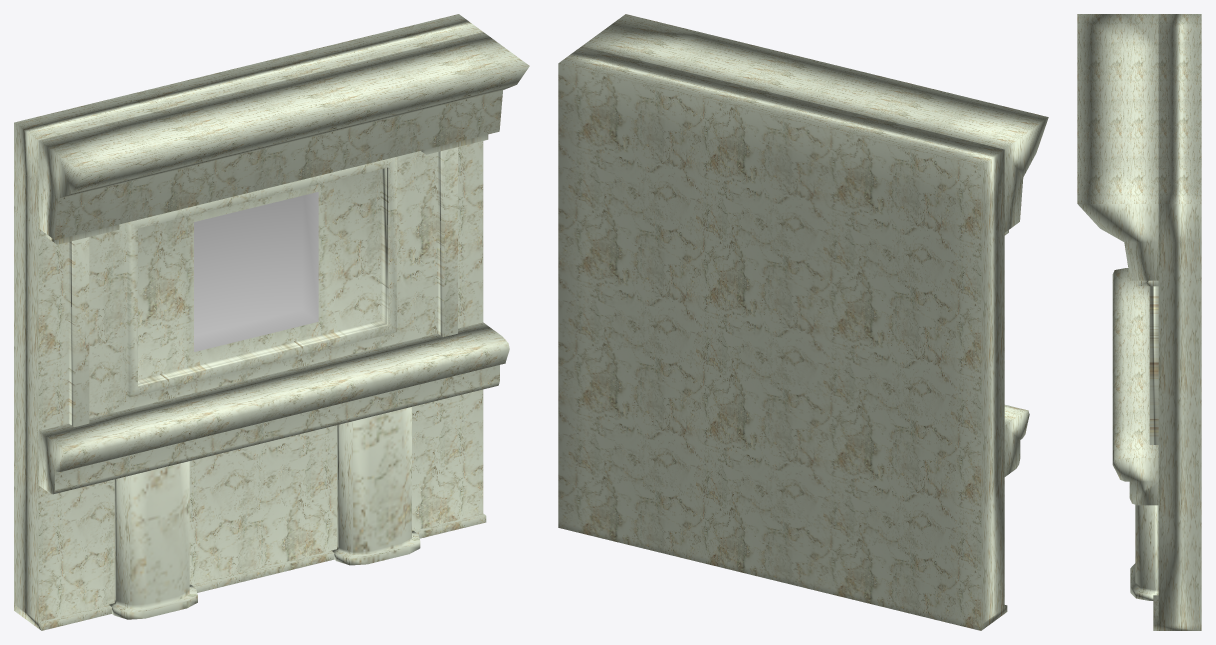
The model's file is wall with hole.glb.
3 views of the same model, side by side, from view 1: azimuth 30°, elevation 25°; view 2: azimuth 150°, elevation 25°; view 3: azimuth 270°, elevation 25° (orthographic). The views are drawn at different scales.
Parts seen in each view (by area): view 1: Cube.002; view 2: Cube.002; view 3: Cube.002.
Part boxes in pixels (left/top/right/bottom): Cube.002: left=14, top=14, right=529, bottom=630; Cube.002: left=558, top=14, right=1048, bottom=630; Cube.002: left=1077, top=14, right=1201, bottom=630.
Size of the model in its own units: 3.32 by 3.48 by 0.9183.
Materials: 2 (1 with a texture image).
